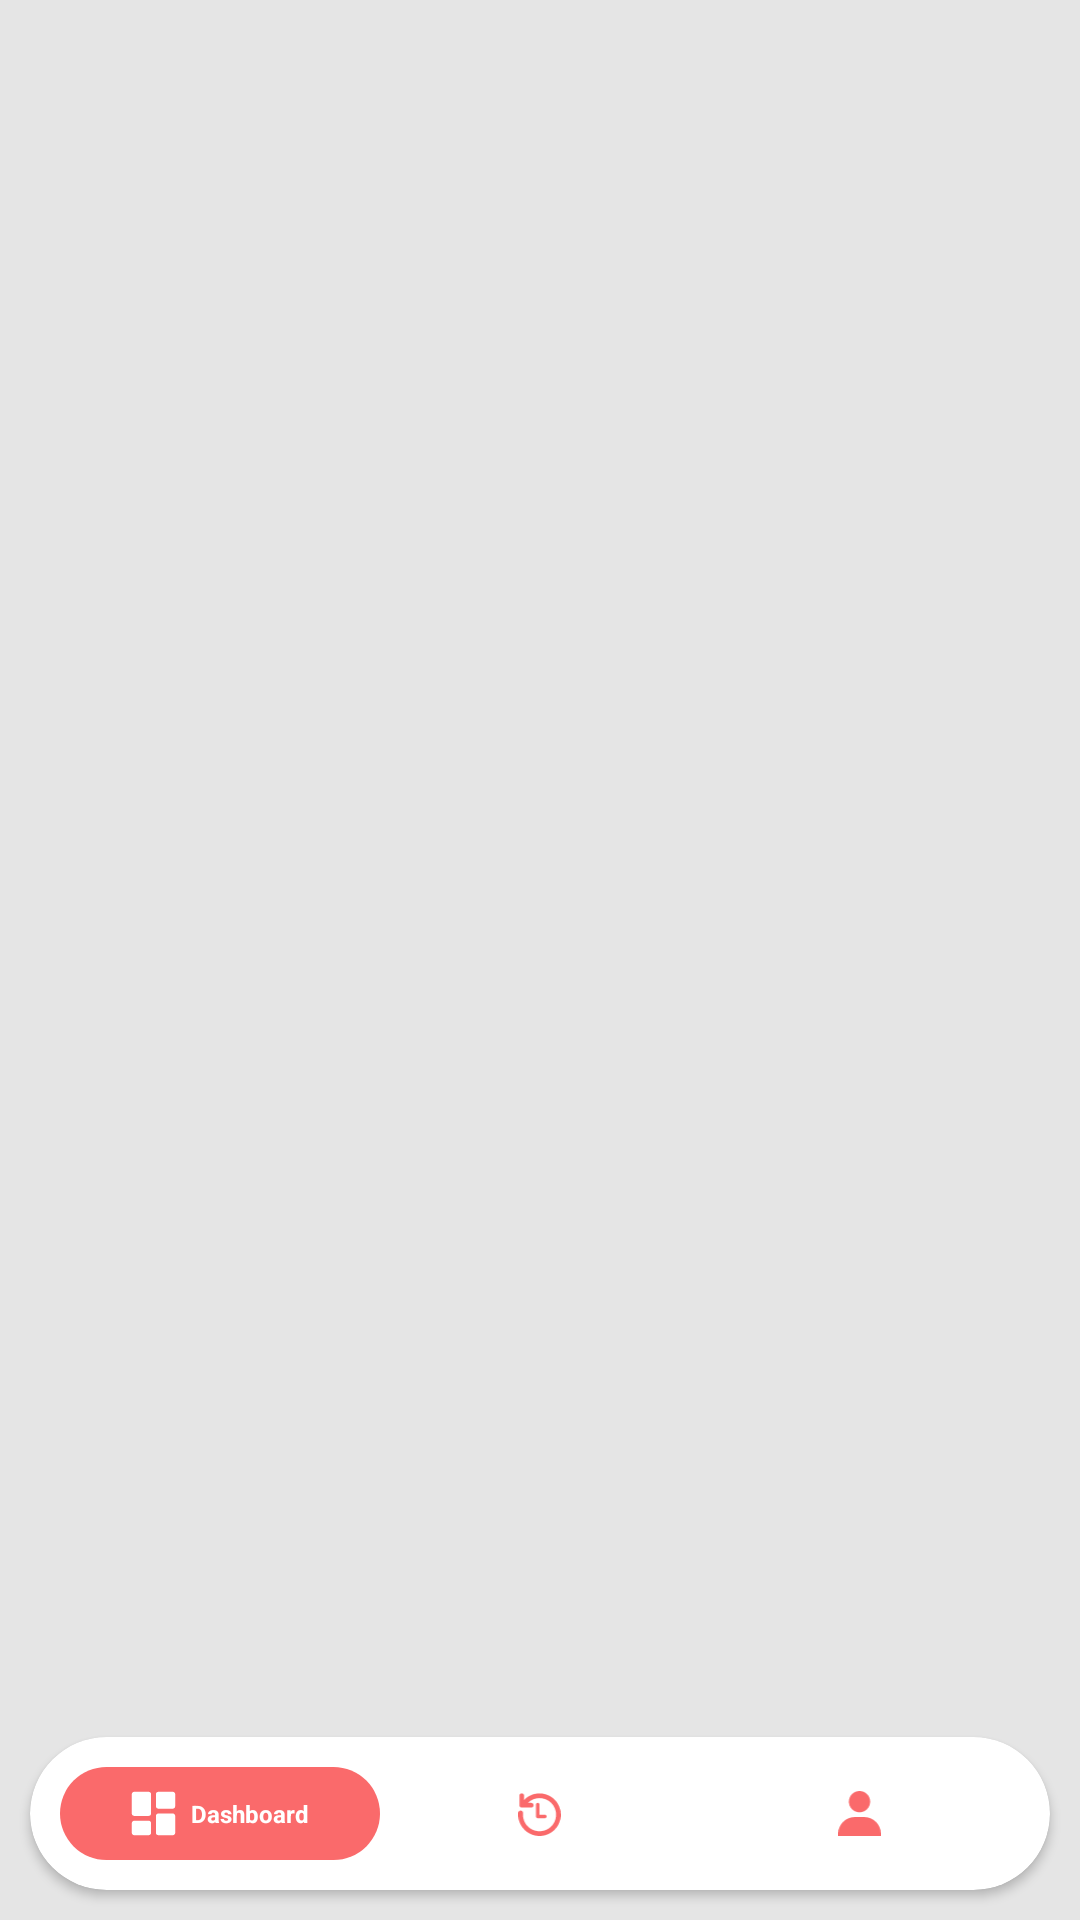

Icon bounding boxes for this 1080px x 1920px phone screenshot, format [x1=x1, y1=y1, x2=x2, y2=y2]:
history: [x1=518, y1=1793, x2=561, y2=1836]
profile: [x1=838, y1=1791, x2=881, y2=1836]
